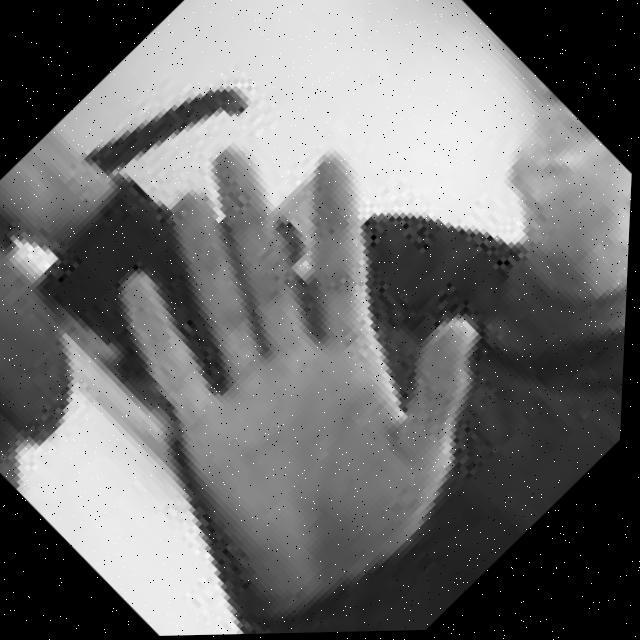no-gloves: (10, 86, 578, 640)
